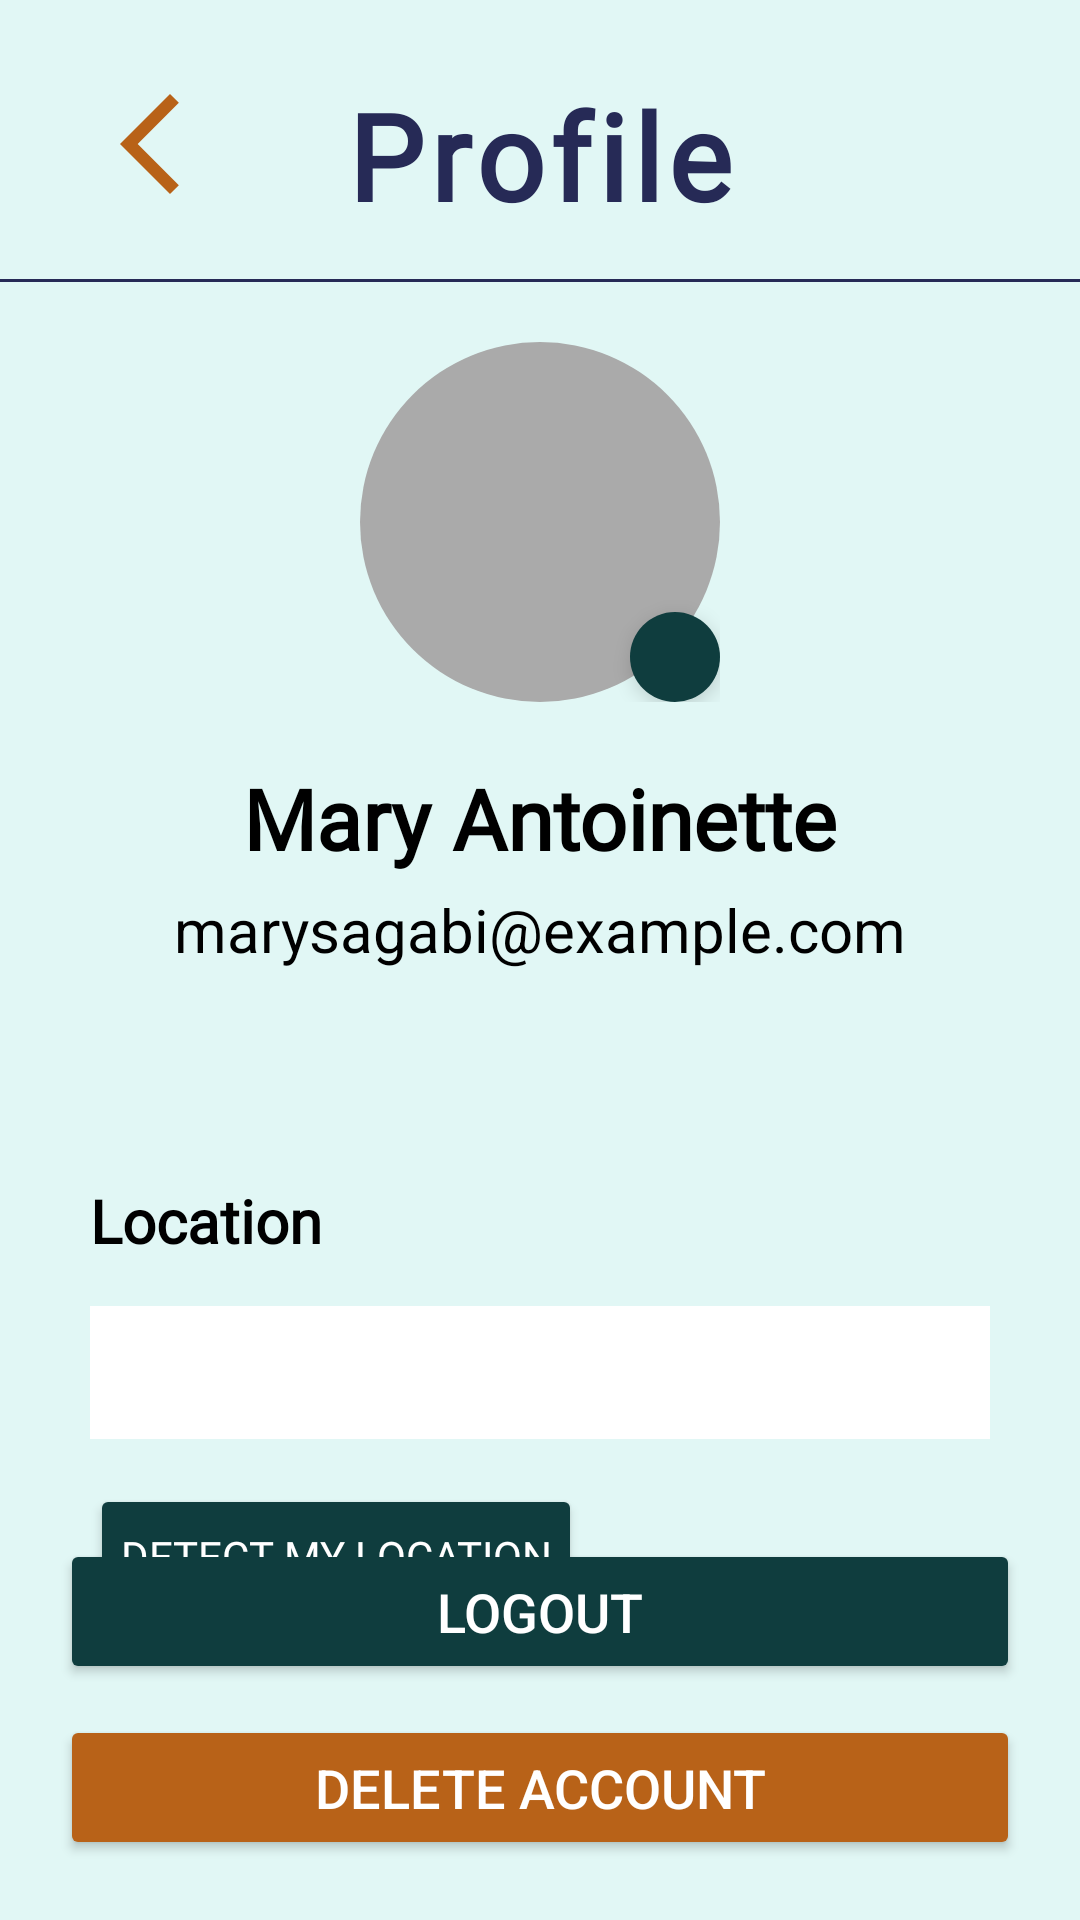

Named icons in this screenshot (1080×1920) and their centers, (x=x, y=y):
back: (x=149, y=144)
